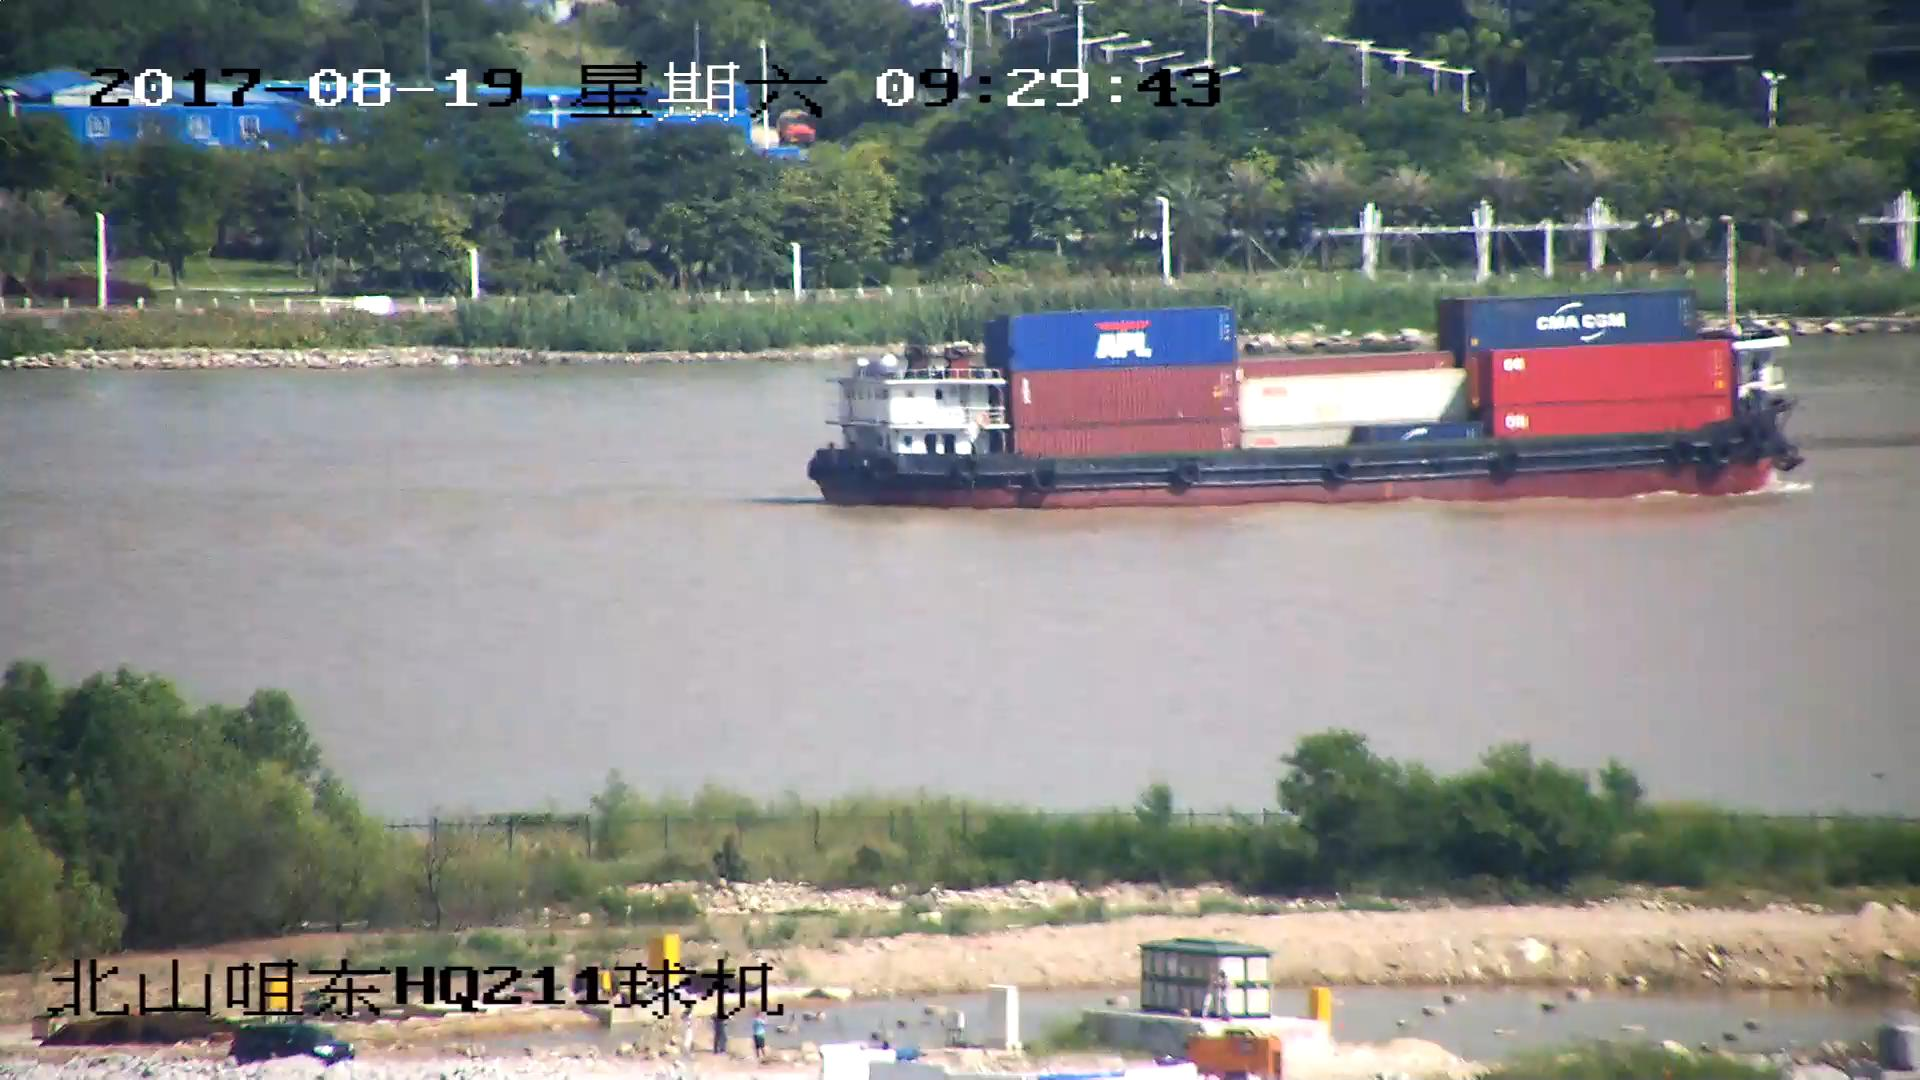container ship: (808, 218, 1810, 510)
